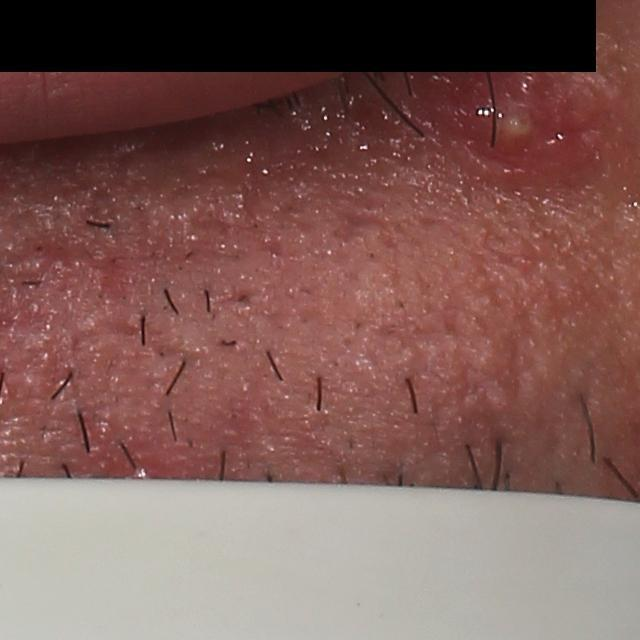atrophic_scar: (327, 200, 387, 245)
